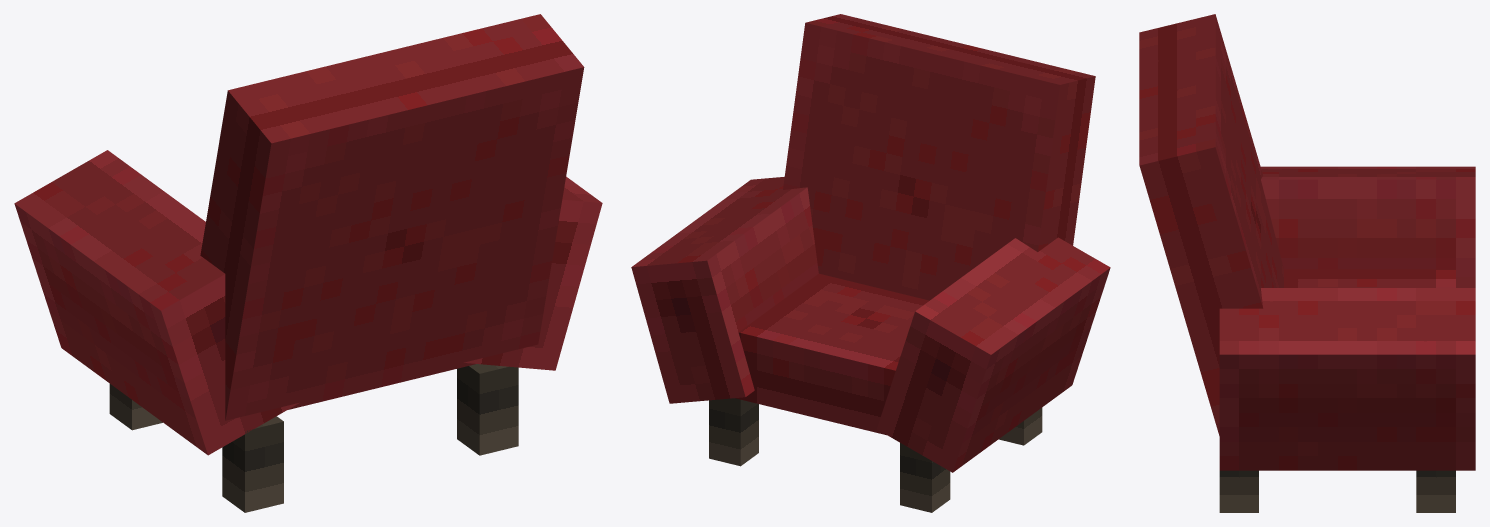
Rendered from arm_chair.gltf.
3 views of the same model, side by side, from view 1: azimuth 30°, elevation 25°; view 2: azimuth 150°, elevation 25°; view 3: azimuth 270°, elevation 25° (orthographic). The views are drawn at different scales.
Parts seen in each view (by area): view 1: cube (×6); view 2: cube (×7); view 3: cube (×6).
Part boxes in pixels (box(x1,y1,x2,y2)): cube (×6): box(14, 14, 602, 512); cube (×7): box(631, 14, 1110, 512); cube (×6): box(1139, 14, 1475, 512).
Size of the model in its own units: 1.41 by 1.31 by 1.07.
Materials: 1 (1 with a texture image).
